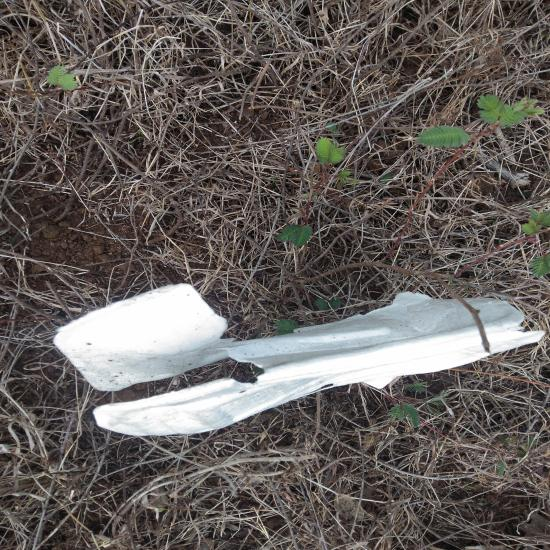Plastic bottle cap: (220, 357, 294, 414)
